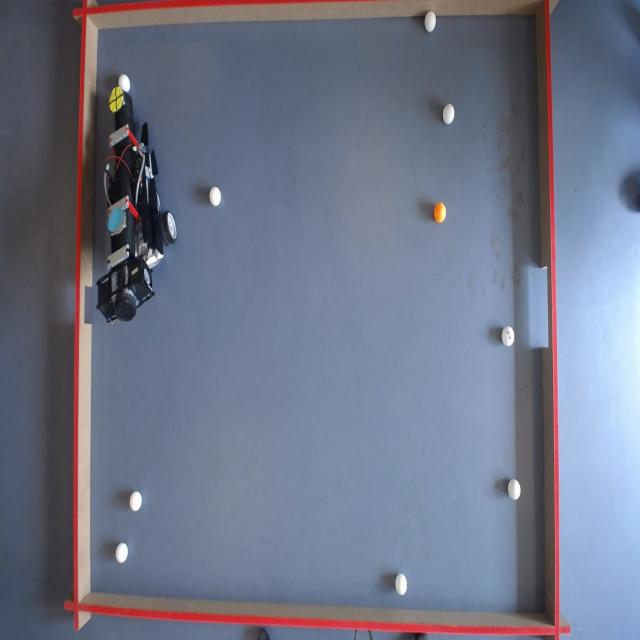orange: (433, 202, 447, 224)
robot: (99, 76, 182, 330)
robot-front: (109, 86, 124, 112)
robot-rear: (106, 204, 125, 236)
white: (130, 491, 144, 513), (395, 574, 408, 597), (508, 479, 522, 500), (424, 10, 438, 31), (115, 541, 128, 563), (501, 326, 515, 346), (444, 104, 457, 125), (210, 188, 222, 208), (118, 74, 130, 93)
